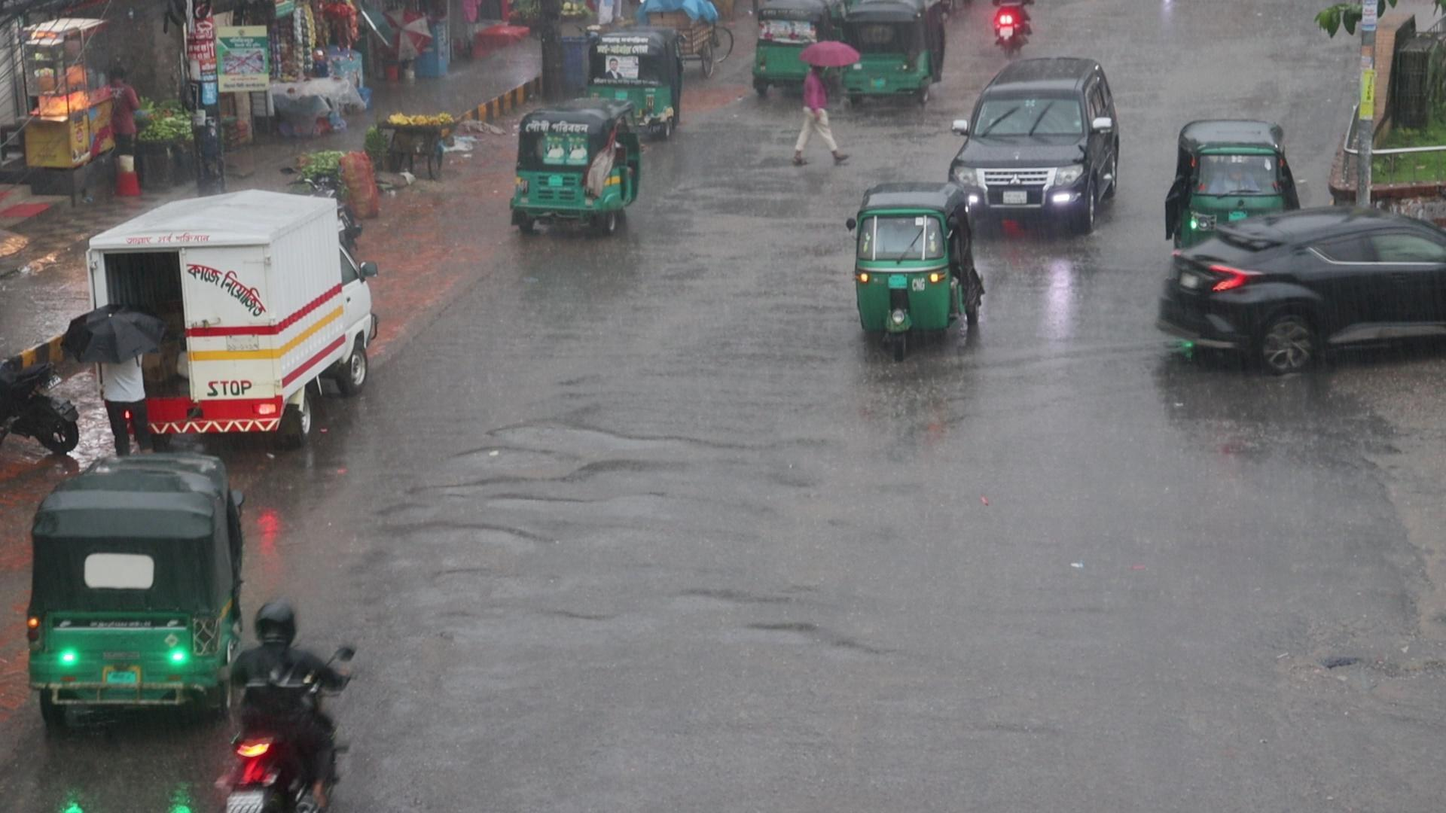Car: (1151, 202, 1446, 382), (945, 51, 1124, 242)
